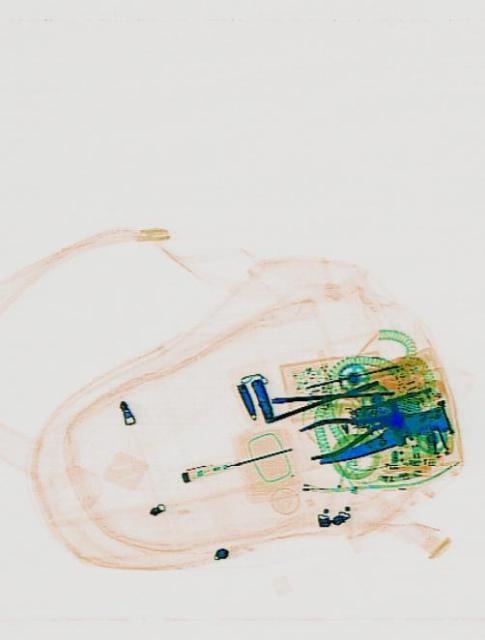Pliers: (297, 394, 404, 464)
